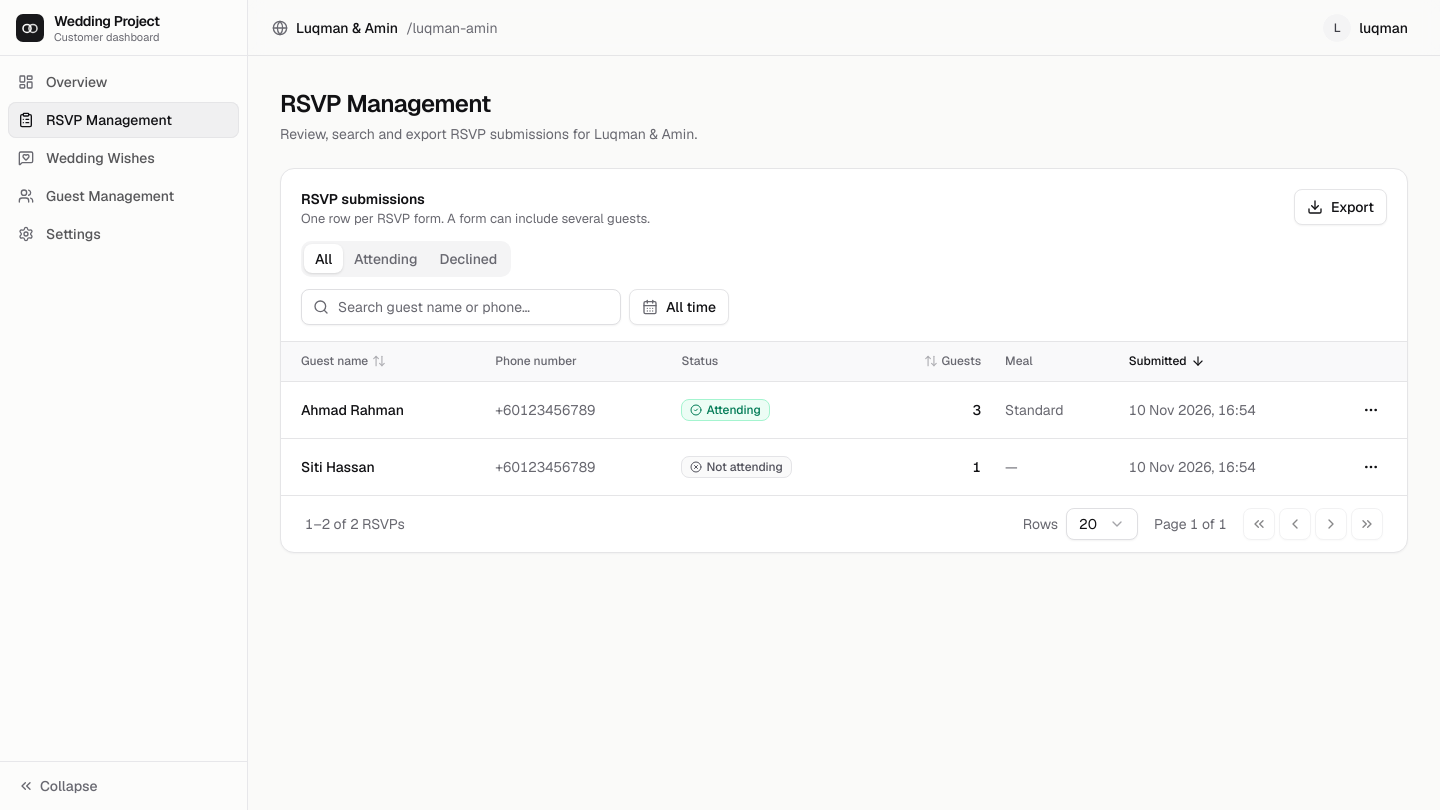
Test case: RSVP management › searches by name with debounce and skips too-short input
Later steps or results of the test are not shown.
Type "a" into the search field labelled "Search guest name or phone…" at (461, 306), box [301,288,621,324]
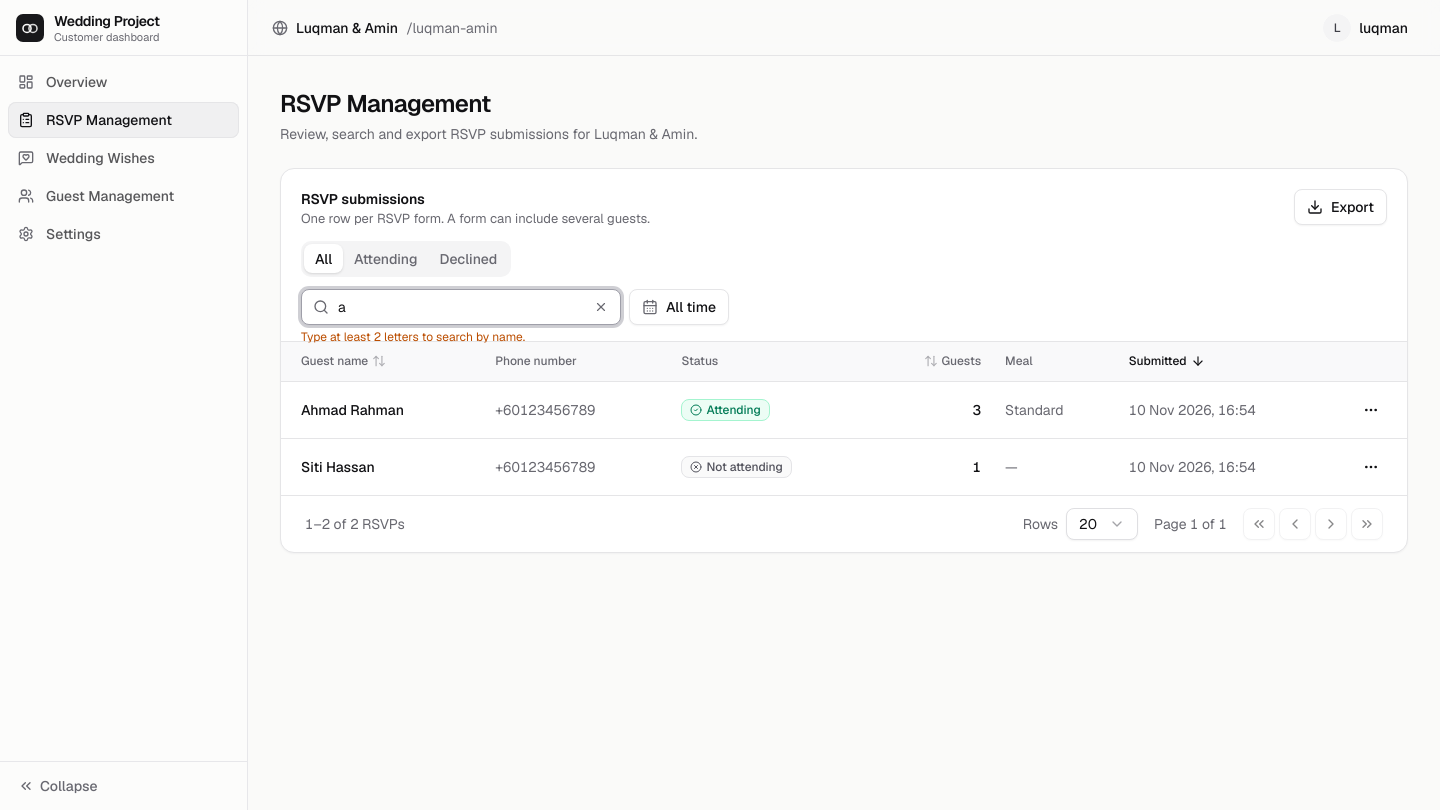
Check: the text "Type at least 2 letters to search by name." is shown, box [301,328,525,344]
